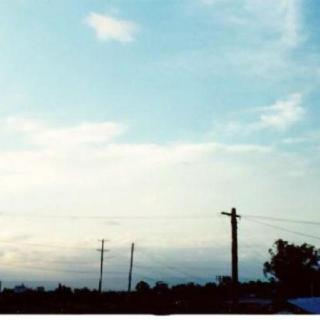Stratocumulus: (0, 6, 320, 262)
